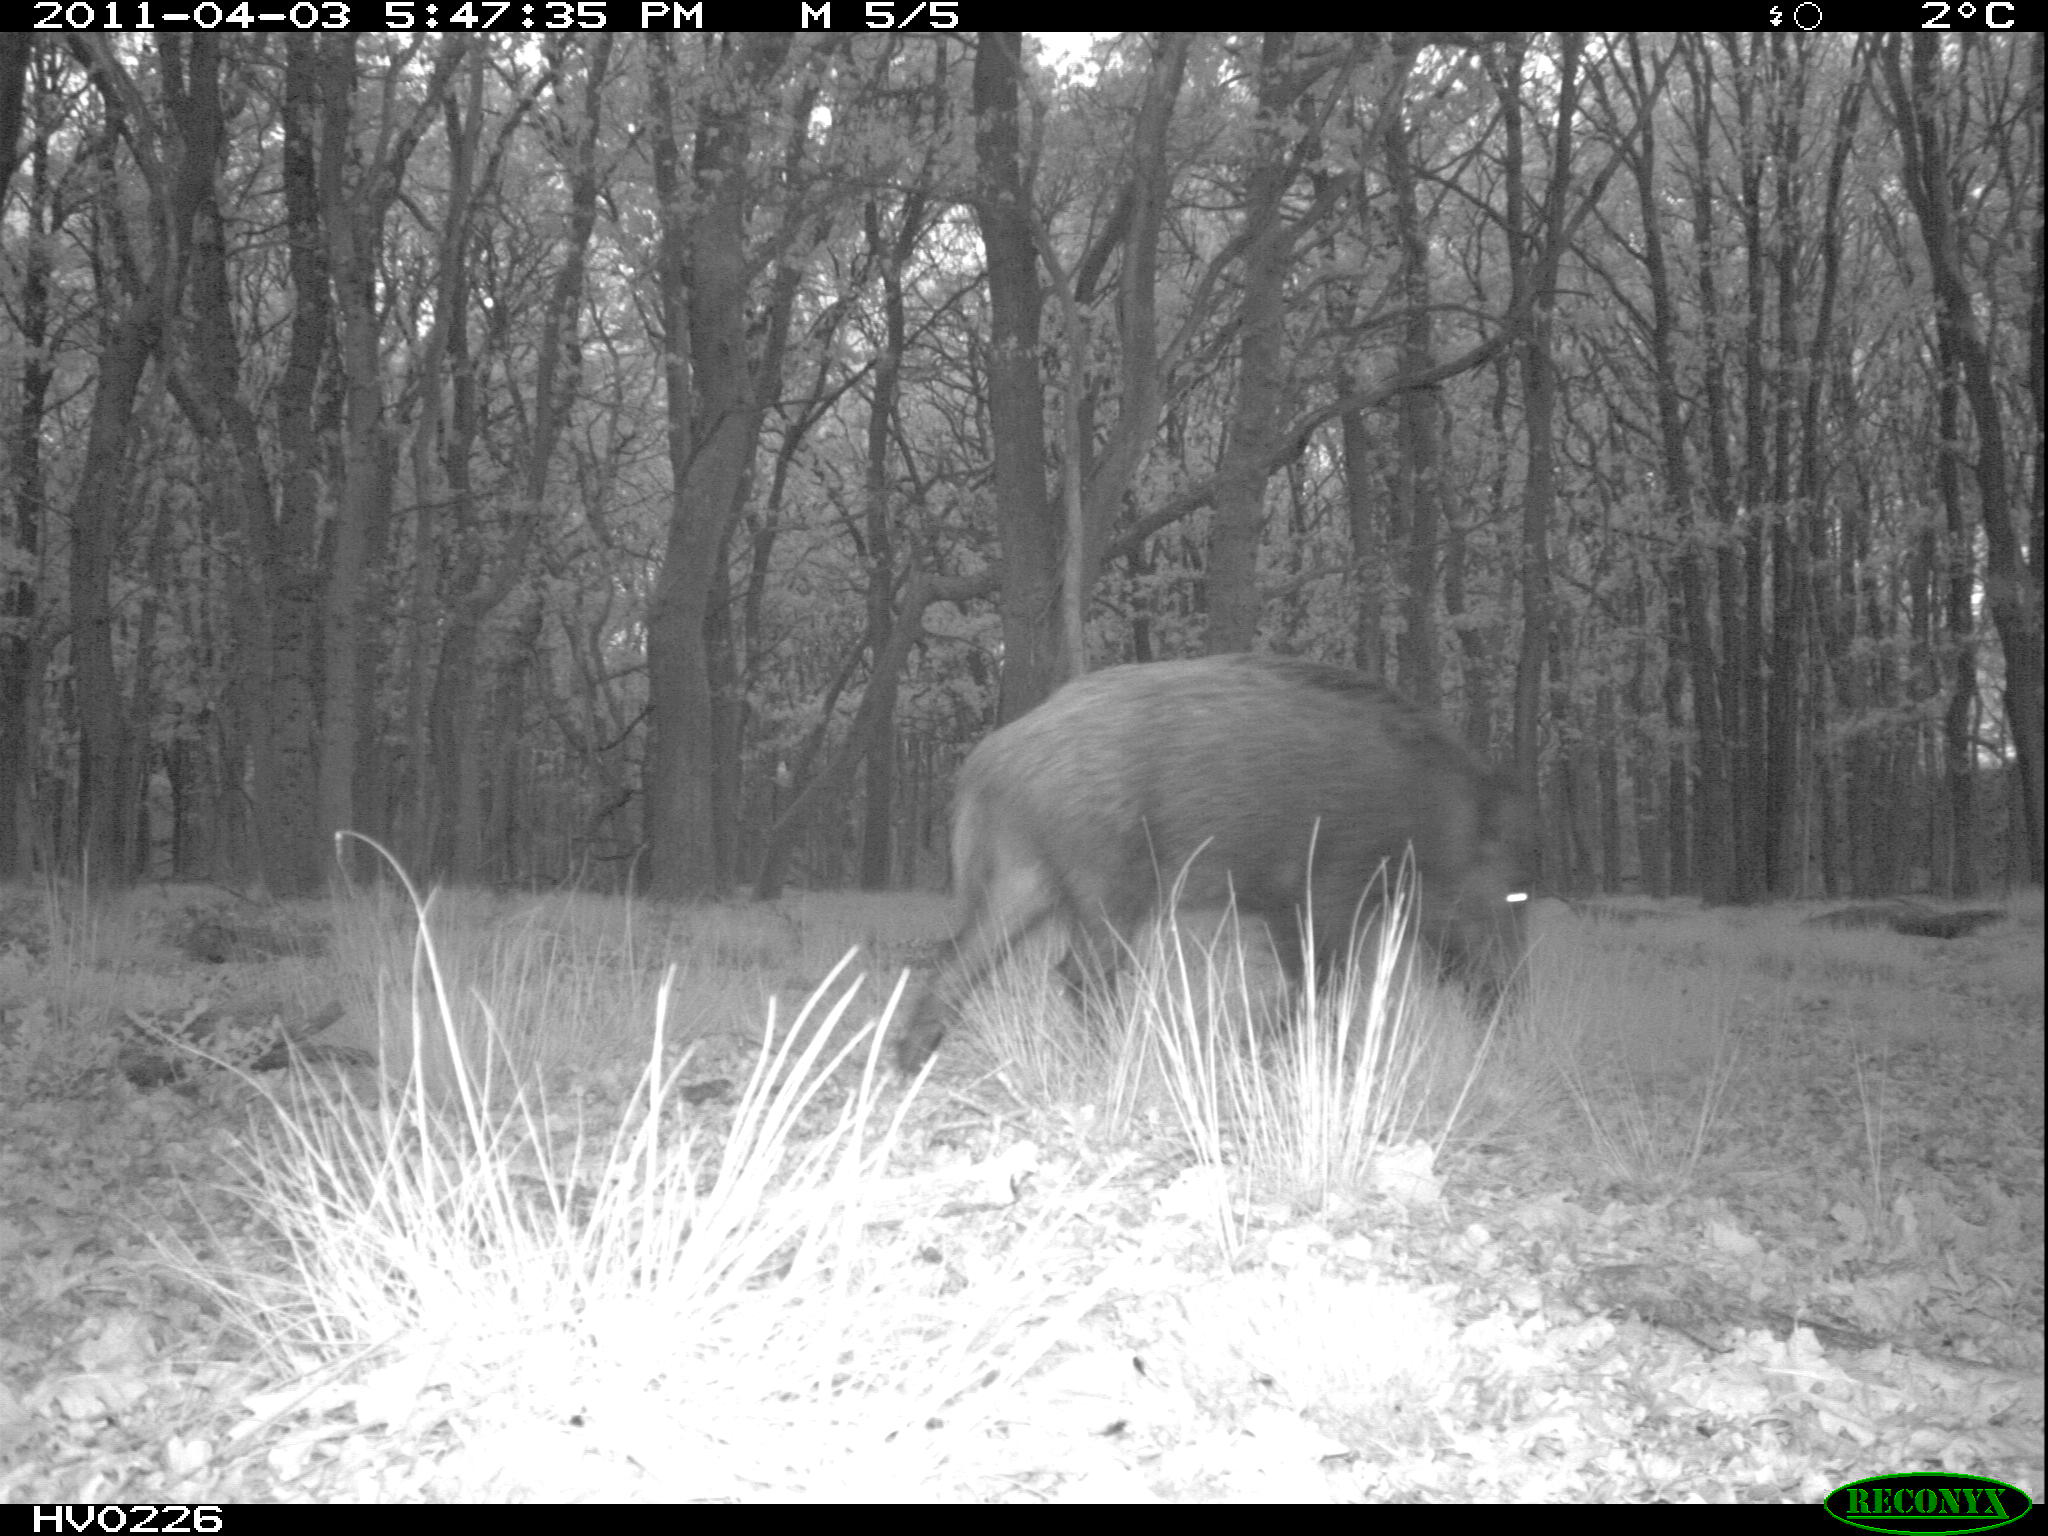Pig: (884, 645, 1542, 1108)
